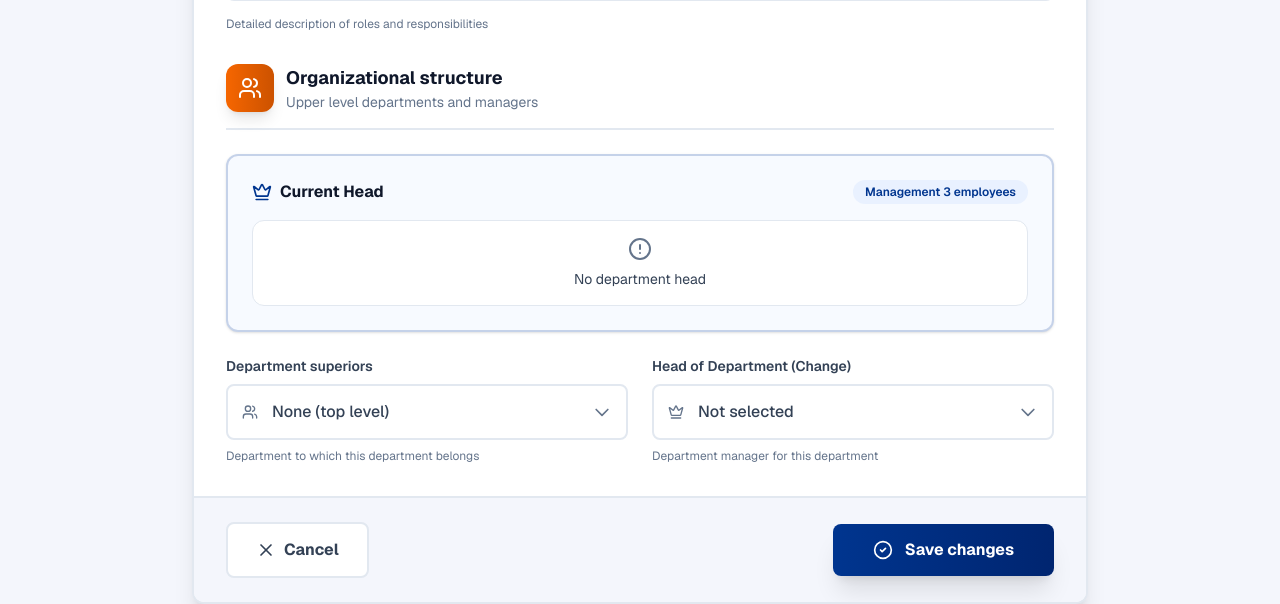
the warnings this form owes the user › warns before a parent change that the server will refuse
(page scrolled)
Select "Human Resources (HRD)" in the dropdown named "parentId" below "Department superiors" at (427, 412), box [226,384,628,440]
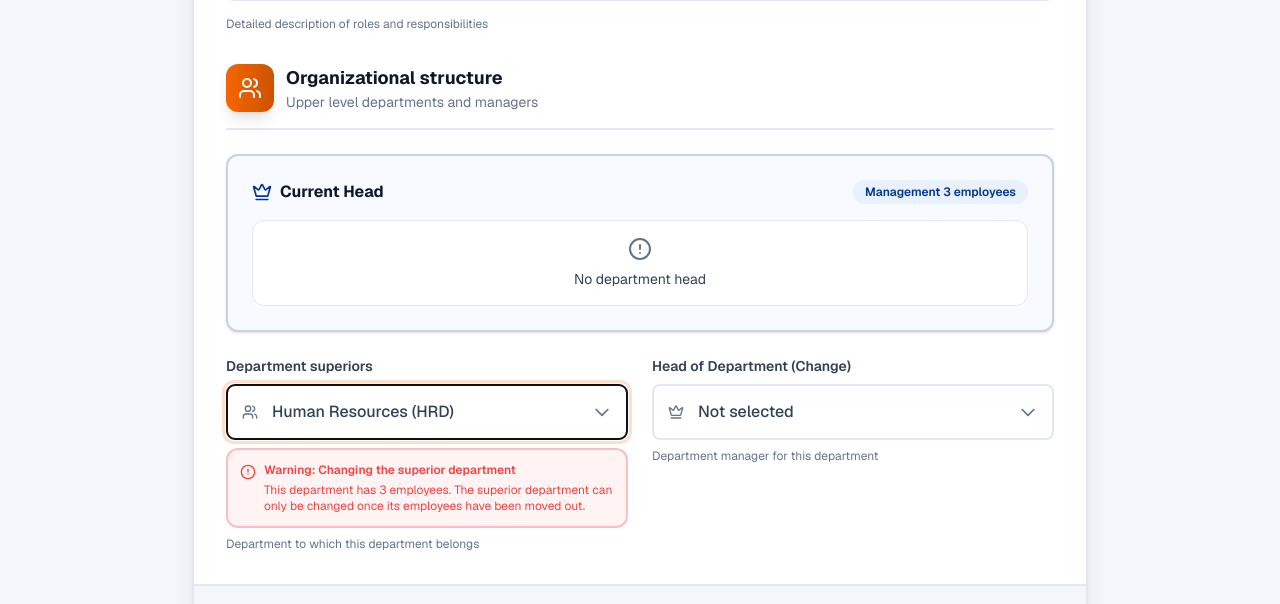
Check: the element with test id "dept-parent-warning" is shown, box [226,448,628,528]
